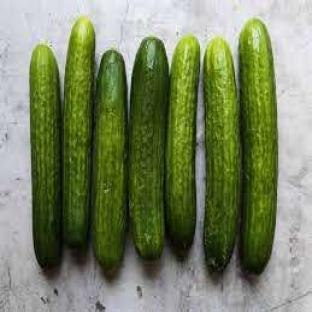Cucumber: (239, 20, 278, 273), (129, 37, 168, 258), (204, 37, 240, 271), (92, 50, 127, 270), (63, 17, 95, 247), (166, 36, 199, 250), (29, 46, 61, 266)
